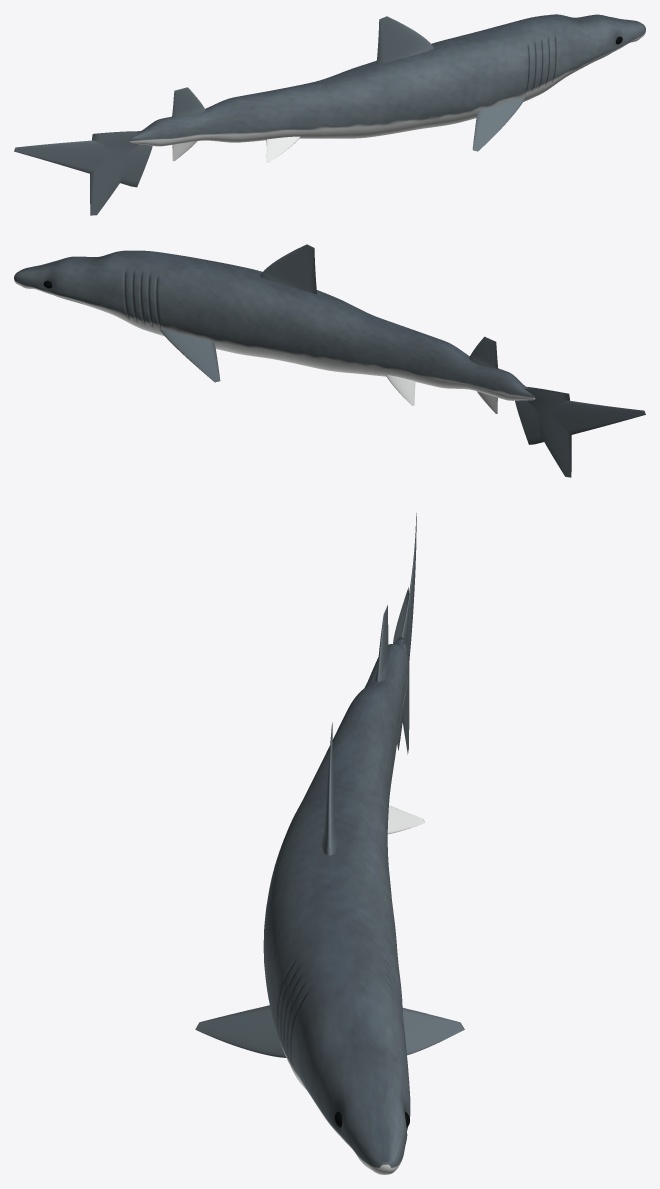
File: tope_shark.glb
3 views of the same model, one above another, from view 1: azimuth 30°, elevation 25°; view 2: azimuth 150°, elevation 25°; view 3: azimuth 270°, elevation 25° (orthographic). The views are drawn at different scales.
Parts seen in each view (by area): view 1: tope_shark_Body, tope_shark_Fins; view 2: tope_shark_Body, tope_shark_Fins; view 3: tope_shark_Body, tope_shark_Fins.
Part boxes in pixels (x1,y1,x2,y2): tope_shark_Body: (129,14,645,146); tope_shark_Fins: (14,16,525,215); tope_shark_Body: (14,250,535,400); tope_shark_Fins: (160,244,645,477); tope_shark_Body: (263,637,410,1174); tope_shark_Fins: (195,513,464,1057).
Bounding box in the file's own units: 1.6 × 0.3601 × 0.2998.
3 materials, 1 textured.
